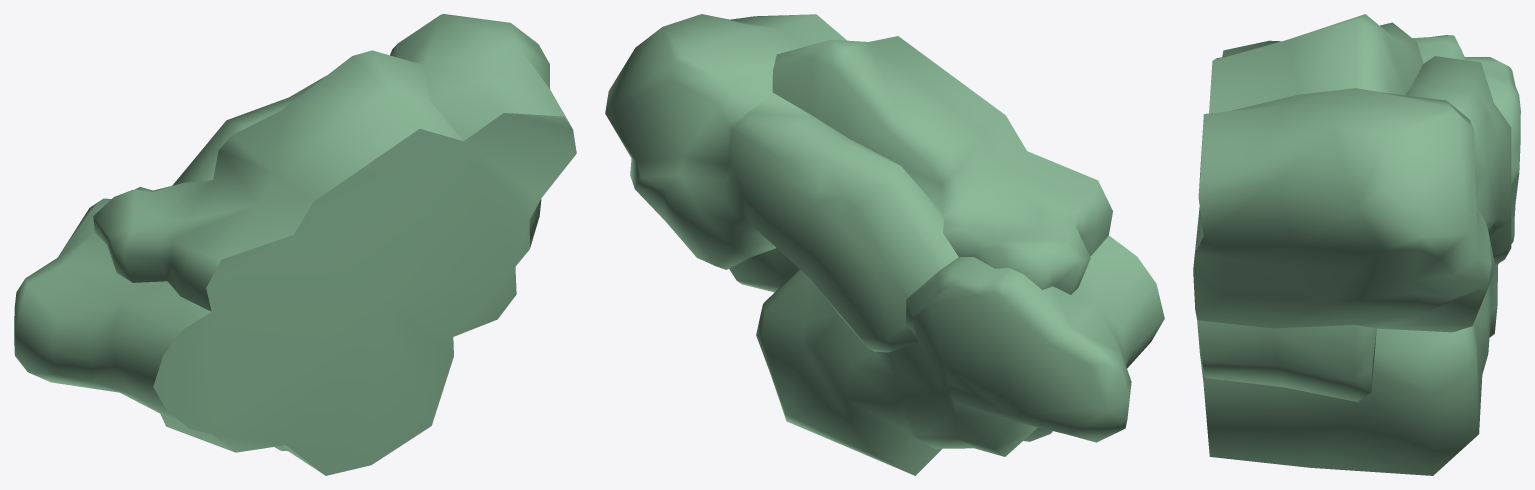
File: Rock_004.FBX
3 views of the same model, side by side, from view 1: azimuth 30°, elevation 25°; view 2: azimuth 150°, elevation 25°; view 3: azimuth 270°, elevation 25° (orthographic). The views are drawn at different scales.
Visible parts, largest first — view 1: Rock_004_LOD0; view 2: Rock_004_LOD0; view 3: Rock_004_LOD0.
Boxes of the visible parts, left/top/right/bottom form: Rock_004_LOD0: left=14, top=14, right=576, bottom=475; Rock_004_LOD0: left=605, top=14, right=1164, bottom=475; Rock_004_LOD0: left=1193, top=14, right=1520, bottom=475.
Bounding box in the file's own units: 223 × 96.25 × 157.
